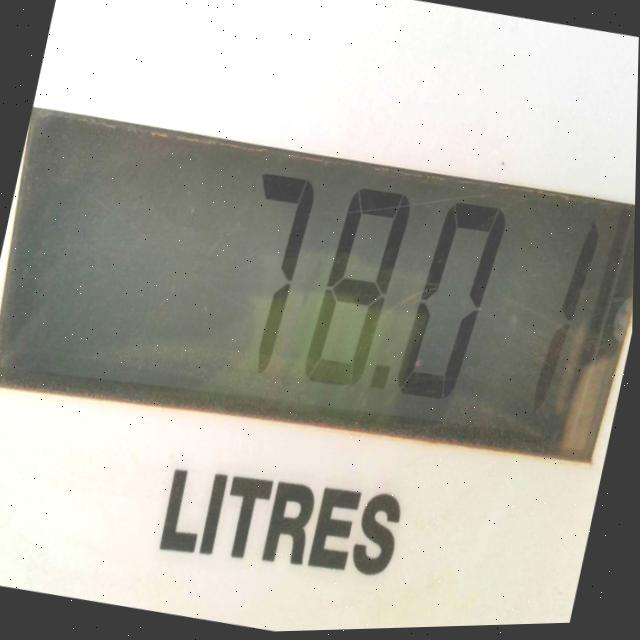.: (372, 367, 392, 394)
0: (395, 201, 501, 411)
1: (530, 225, 607, 430)
7: (218, 171, 324, 402)
8: (305, 180, 415, 399)
